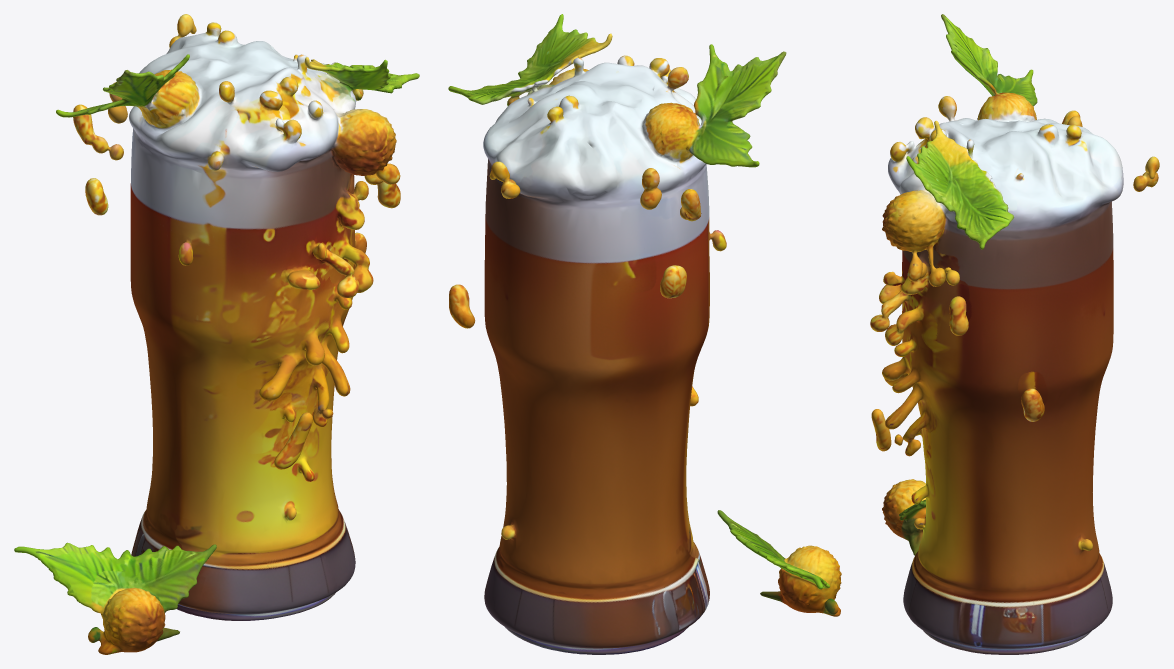
File: Freedom.glb
3 renders of one model, left to right at view 1: azimuth 30°, elevation 25°; view 2: azimuth 150°, elevation 25°; view 3: azimuth 270°, elevation 25°, orthographic. The views are drawn at different scales.
Parts seen in each view (by area): view 1: texture_v100.001; view 2: texture_v100.001; view 3: texture_v100.001.
Boxes of the visible parts, x1,y1,x2,y2 form: texture_v100.001: (14,14,419,654); texture_v100.001: (448,14,841,654); texture_v100.001: (870,14,1159,654).
Size of the model in its own units: 0.7359 by 1.04 by 0.5079.
Materials: 1 (1 with a texture image).
